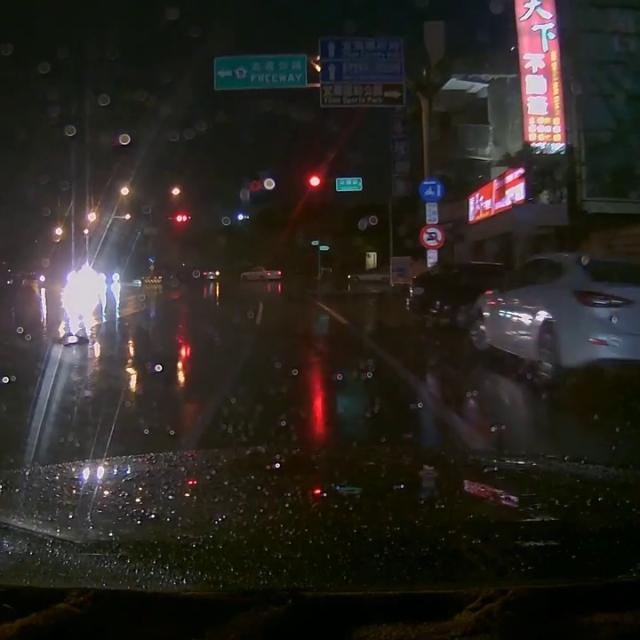Car: (461, 251, 639, 384), (404, 257, 511, 331), (346, 264, 391, 284), (238, 265, 281, 283)
